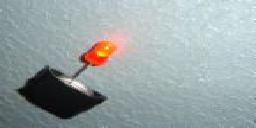LED: (73, 37, 118, 86)
